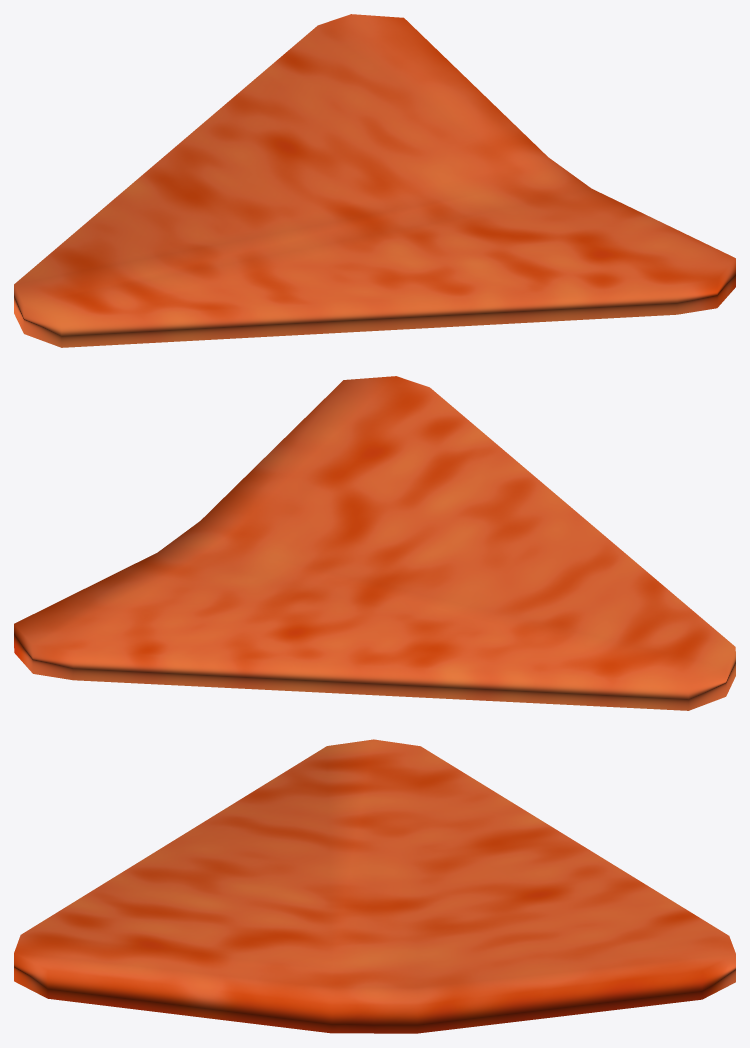
File: Chip_03.fbx
The picture shows the model from 3 angles, top to bottom: view 1: azimuth 30°, elevation 25°; view 2: azimuth 150°, elevation 25°; view 3: azimuth 270°, elevation 25°; orthographic projection.
Parts seen in each view (by area): view 1: Chip_03; view 2: Chip_03; view 3: Chip_03.
Part boxes in pixels (<box>): Chip_03: <box>14,14,735,347</box>; Chip_03: <box>14,376,735,710</box>; Chip_03: <box>14,739,735,1033</box>.
Bounding box in the file's own units: 31.43 × 3.55 × 36.29.
